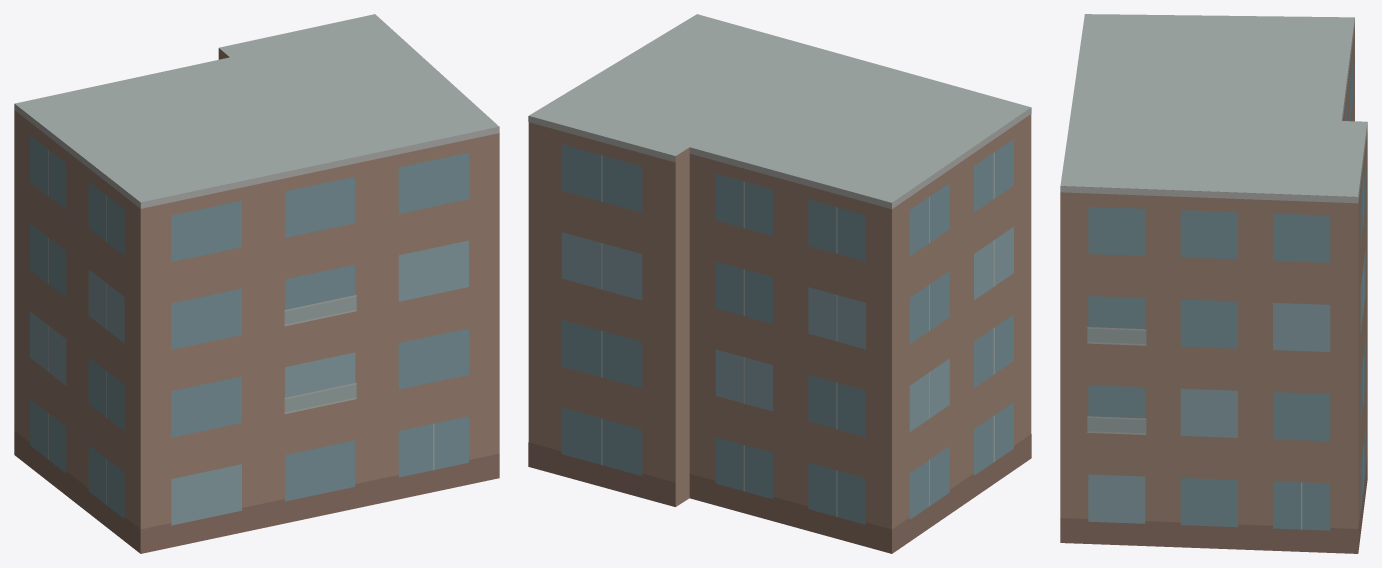
The model's file is survey-upis-32653815.glb.
3 views of the same model, side by side, from view 1: azimuth 30°, elevation 25°; view 2: azimuth 150°, elevation 25°; view 3: azimuth 270°, elevation 25° (orthographic).
Parts seen in each view (by area): view 1: survey-upis-32653815.tmp; view 2: survey-upis-32653815.tmp; view 3: survey-upis-32653815.tmp.
Part boxes in pixels (x1,y1,x2,y2): survey-upis-32653815.tmp: (14,14,499,553); survey-upis-32653815.tmp: (528,14,1031,553); survey-upis-32653815.tmp: (1060,14,1367,553).
Size of the model in its own units: 14.82 by 13.48 by 10.52.
